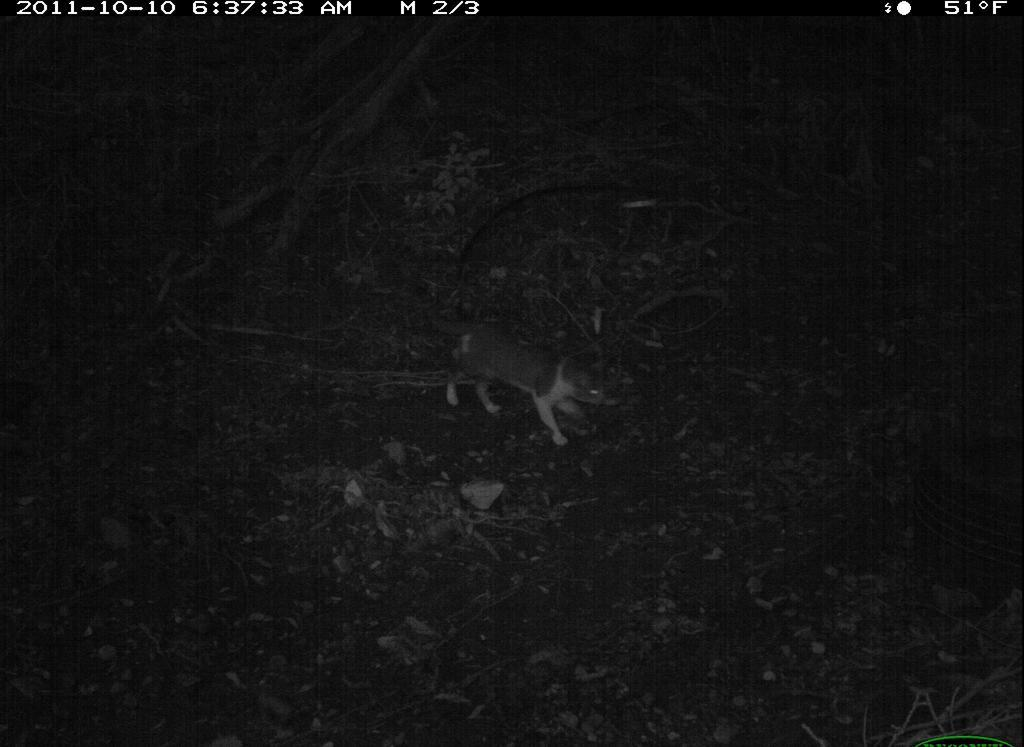cat: (411, 296, 625, 449)
